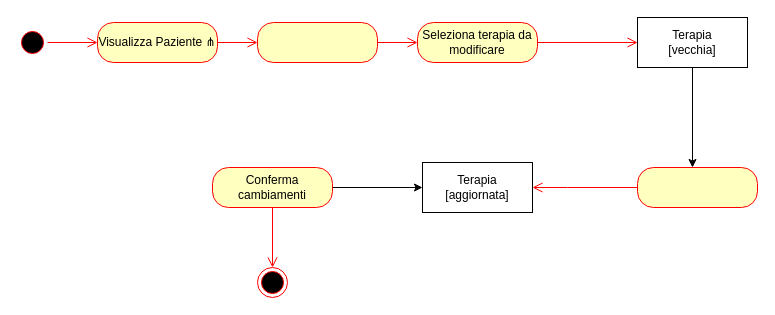
This 775x315 diagram has some shape labels left out. Here are the shapes that lost their labels. From the top down, the centre of each, then its label:
At [317,42]: "Visualizza terapie paziente".
At [697,187]: "Inserisci nuovi dati della terapia".
